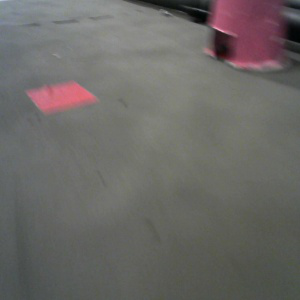right: (204, 1, 291, 70)
